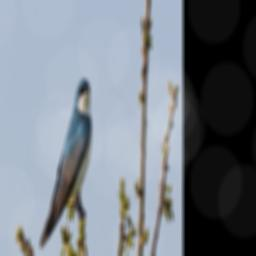Swallow: (37, 71, 95, 251)
